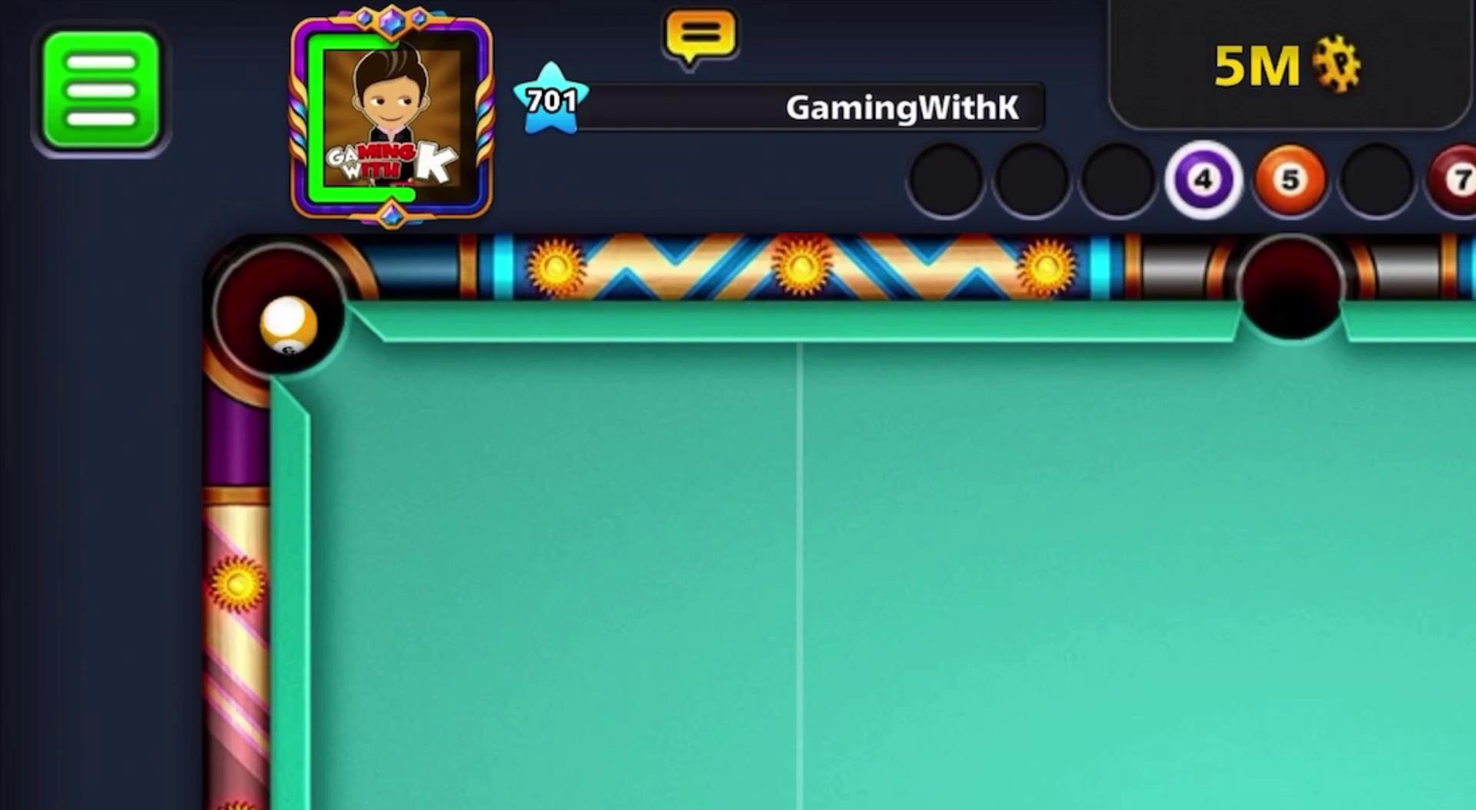Hole: (198, 219, 385, 413), (1230, 220, 1349, 354)
